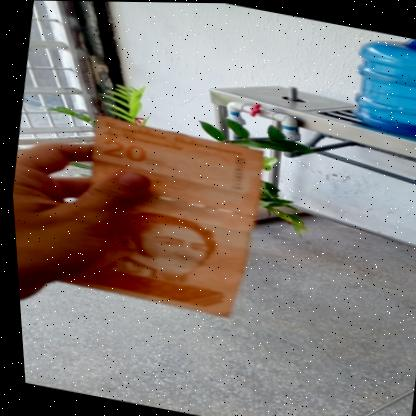twenty-front-vef: (38, 109, 271, 318)
